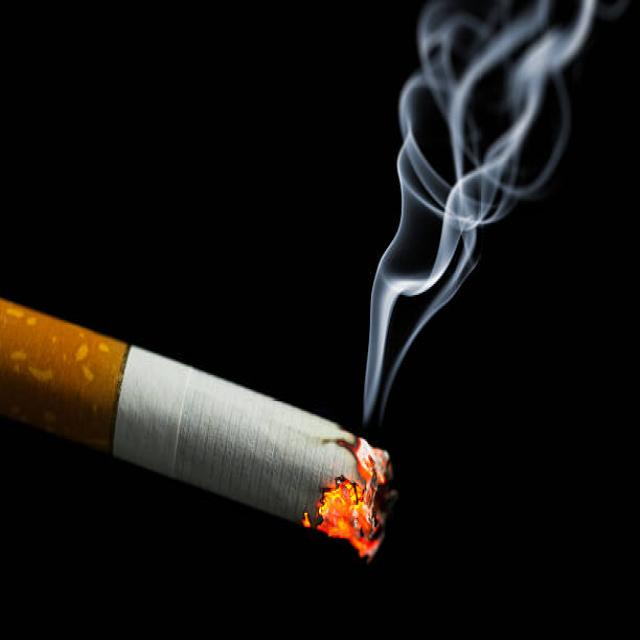Cigarette: (3, 293, 427, 565)
